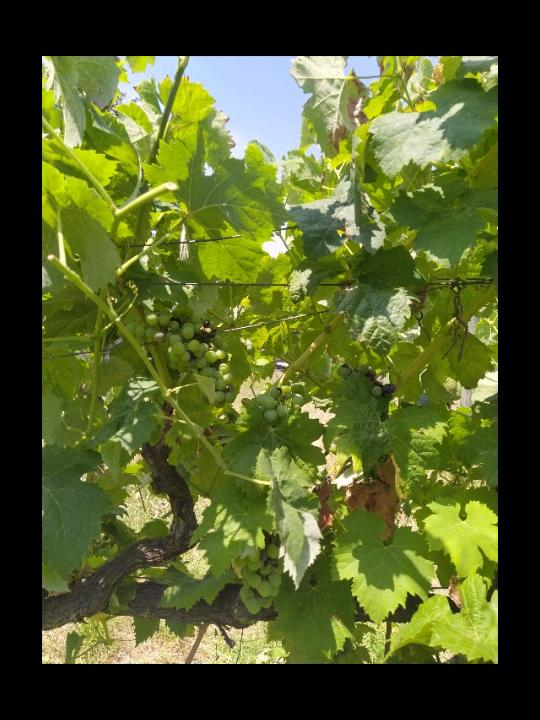grape: (134, 303, 235, 404)
